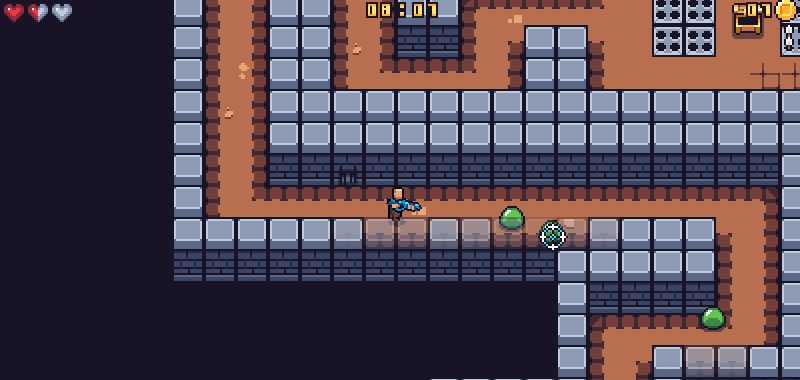enemy_slug: (497, 202, 527, 231), (697, 303, 728, 331), (536, 215, 565, 242)
trap_off: (652, 1, 715, 57)
treasury_open: (732, 3, 763, 36)
